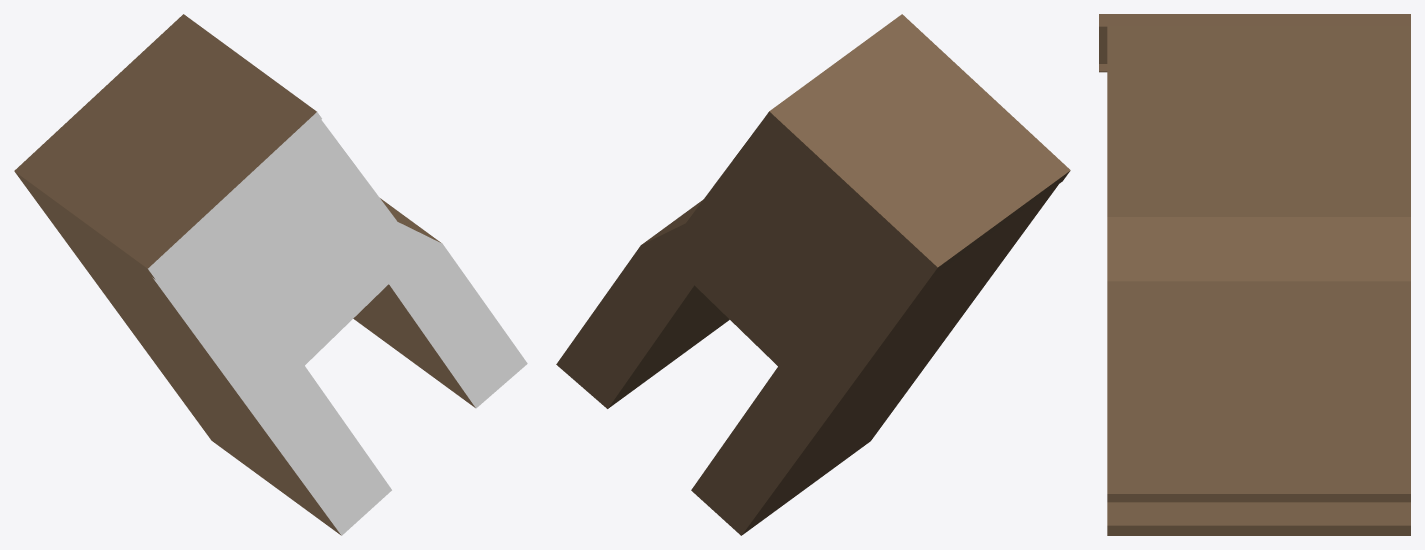
The picture shows the model from 3 angles, left to right: view 1: azimuth 30°, elevation 25°; view 2: azimuth 150°, elevation 25°; view 3: azimuth 270°, elevation 25°; orthographic projection. The views are drawn at different scales.
Visible parts, largest first — view 1: City_PC-05319; view 2: City_PC-05319; view 3: City_PC-05319.
Part boxes in pixels (box(x1,y1,x2,y2)): City_PC-05319: box(14, 14, 527, 535); City_PC-05319: box(556, 14, 1070, 535); City_PC-05319: box(1099, 14, 1410, 535).
Bounding box in the file's own units: 2308 × 2493 × 1392.
